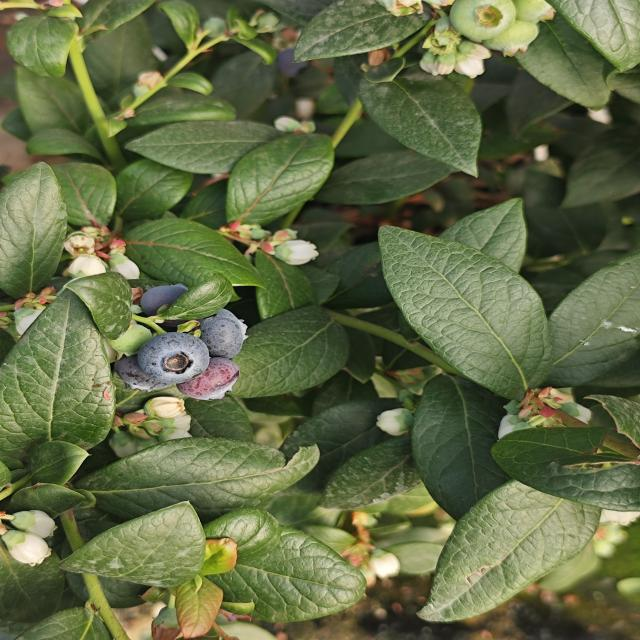ripe: (134, 330, 212, 387), (107, 347, 179, 396), (446, 0, 518, 44), (196, 308, 250, 360), (265, 33, 319, 79), (137, 282, 191, 320)
